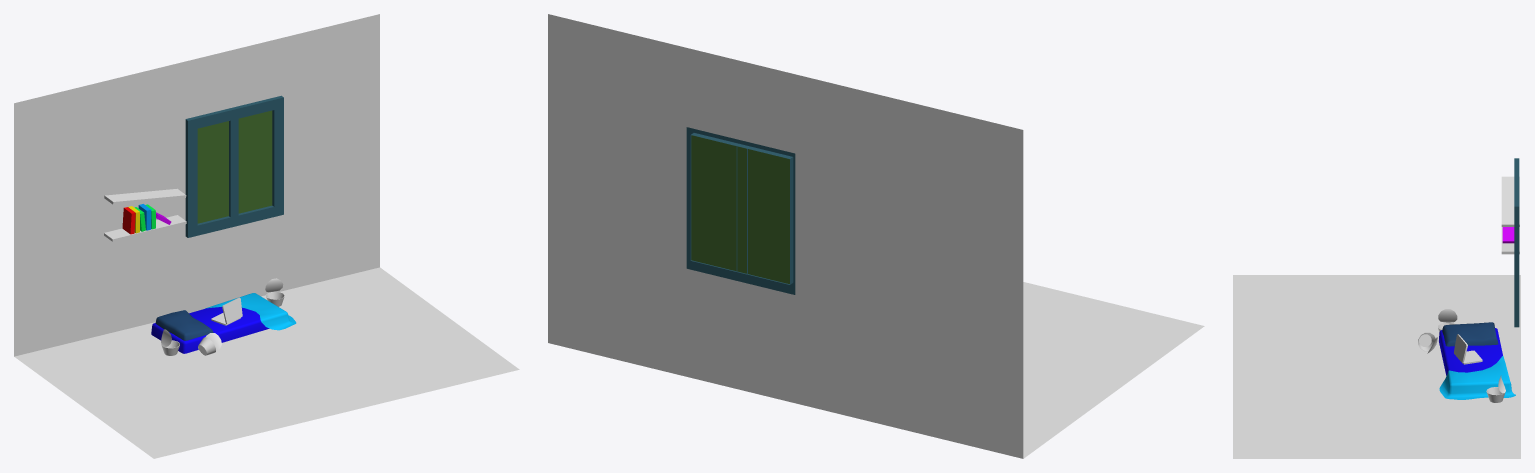
File: House 2.fbx
3 renders of one model, left to right at view 1: azimuth 30°, elevation 25°; view 2: azimuth 150°, elevation 25°; view 3: azimuth 270°, elevation 25°, orthographic. The views are drawn at different scales.
Parts seen in each view (by area): view 1: Wall2, Floor2, Window1.004, Bed, Shelf, Books, Laptop; view 2: Wall2, Floor2, Window1.004; view 3: Floor2, Bed, Window1.004, Shelf, Laptop, Lapsha.002, Lapsha.003.
Boxes of the visible parts, <box> form: Wall2: <box>14,14,379,356</box>; Floor2: <box>14,267,519,458</box>; Window1.004: <box>185,95,283,237</box>; Bed: <box>151,293,296,353</box>; Shelf: <box>104,188,186,241</box>; Books: <box>122,204,171,234</box>; Laptop: <box>211,297,242,325</box>; Wall2: <box>548,14,1023,458</box>; Floor2: <box>1023,282,1204,458</box>; Window1.004: <box>686,127,795,294</box>; Floor2: <box>1233,275,1520,458</box>; Bed: <box>1439,322,1515,399</box>; Window1.004: <box>1514,158,1519,327</box>; Shelf: <box>1501,176,1519,254</box>; Laptop: <box>1454,334,1482,364</box>; Lapsha.002: <box>1486,375,1505,402</box>; Lapsha.003: <box>1418,332,1437,353</box>.
Bounding box in the file's own units: 343 × 227 × 227.
